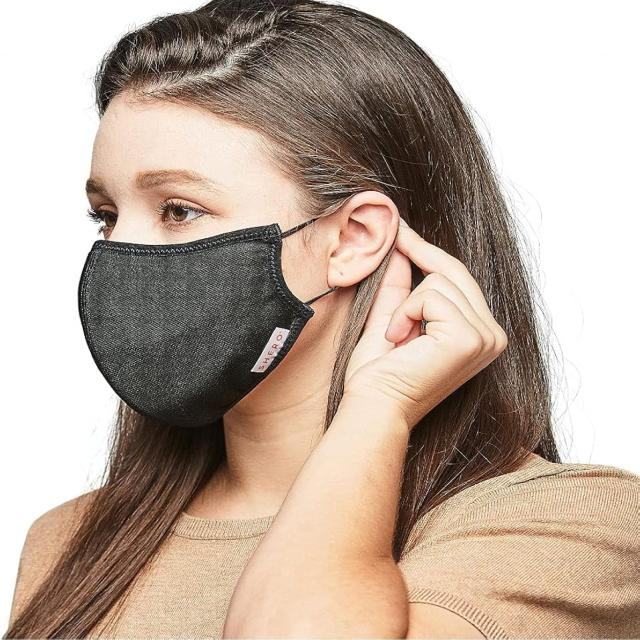1_mascarilla: (82, 239, 303, 410)
